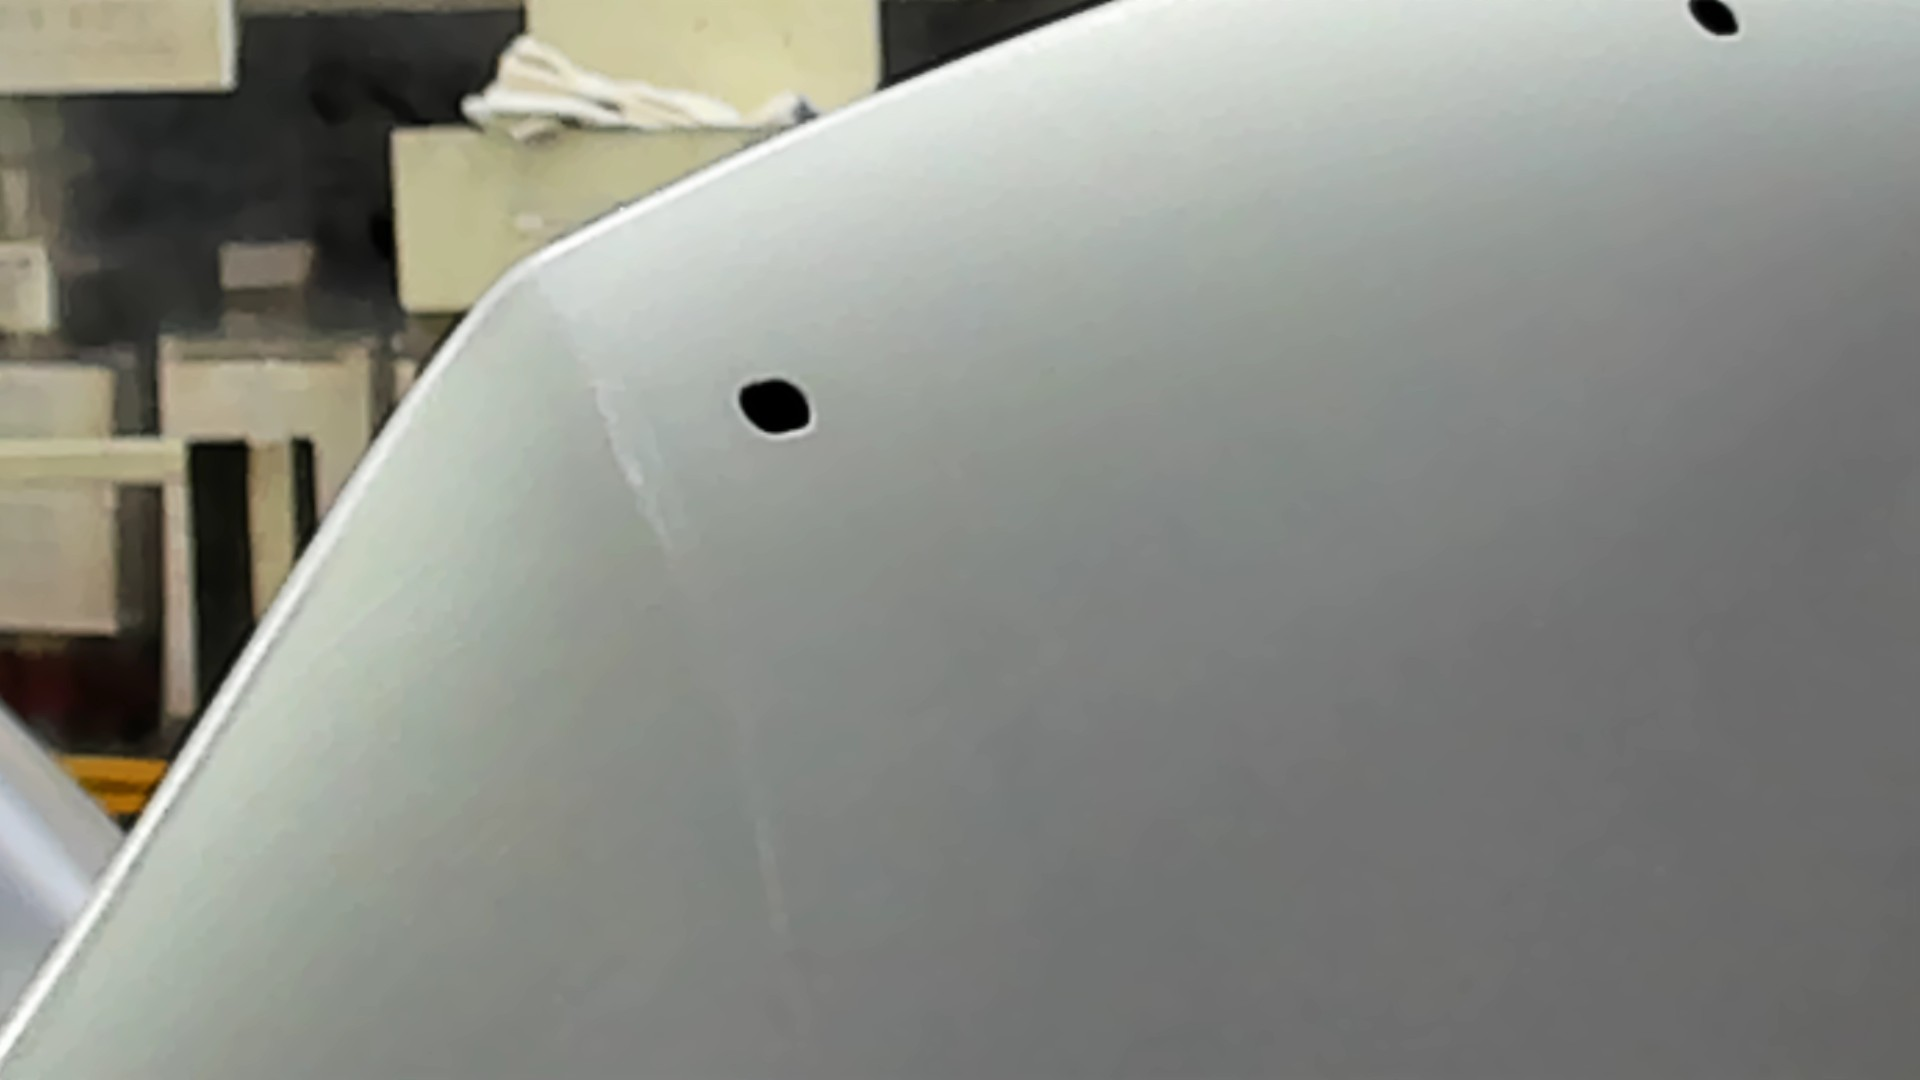amorfo: (733, 372, 818, 440), (1687, 1, 1749, 42)
